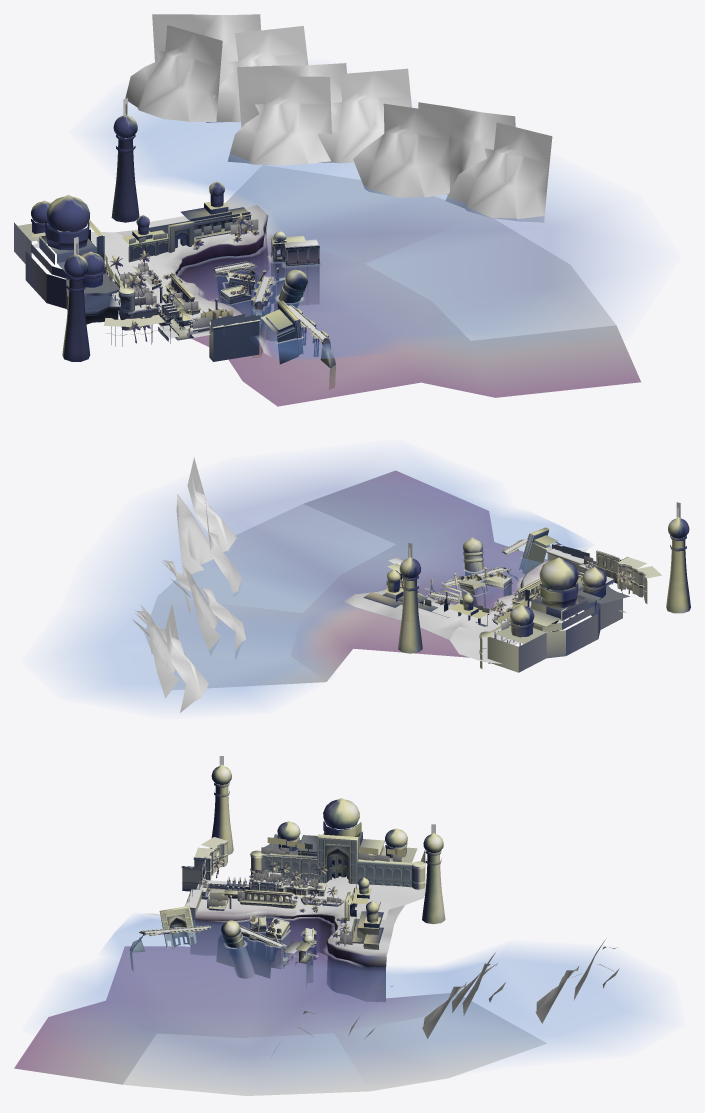
File: 05Islands.gltf
3 renders of one model, top to bottom at view 1: azimuth 30°, elevation 25°; view 2: azimuth 150°, elevation 25°; view 3: azimuth 270°, elevation 25°, orthographic. The views are drawn at different scales.
Visible parts, largest first — view 1: stg013_w12_Mesh_0000, stg010_o12_Mesh_0039, stg010_p19_Mesh_0001, stg010_o13_Mesh_0005, stg010_o12_Mesh_0032, stg010_o19_Mesh_0003, stg010_o19_Mesh_0010, stg010_p13_Mesh_0001, stg010_o19_Mesh_0007, stg010_o19_Mesh_0001, stg010_o19_Mesh_0002, stg010_o13_Mesh_0052 (+13 smaller); view 2: stg013_w12_Mesh_0000, stg010_o12_Mesh_0039, stg010_p19_Mesh_0001, stg010_o13_Mesh_0005, stg010_o12_Mesh_0032, stg010_o19_Mesh_0003, stg010_o19_Mesh_0010, stg010_o19_Mesh_0001, stg010_o19_Mesh_0000, stg010_o19_Mesh_0007, stg010_o13_Mesh_0047, stg010_o19_Mesh_0008 (+6 smaller); view 3: stg013_w12_Mesh_0000, stg010_o12_Mesh_0039, stg010_o13_Mesh_0005, stg010_o19_Mesh_0002, stg010_o19_Mesh_0007, stg010_o19_Mesh_0003, stg010_o19_Mesh_0010, stg010_o13_Mesh_0052, stg010_o19_Mesh_0008, stg010_o19_Mesh_0006, stg010_p19_Mesh_0001, stg010_p13_Mesh_0001 (+10 smaller).
Boxes of the visible parts, box(x1,y1,x2,y2) form: stg013_w12_Mesh_0000: box(91, 101, 635, 359); stg010_o12_Mesh_0039: box(191, 165, 640, 406); stg010_p19_Mesh_0001: box(125, 14, 552, 222); stg010_o13_Mesh_0005: box(17, 194, 328, 364); stg010_o12_Mesh_0032: box(14, 222, 317, 361); stg010_o19_Mesh_0003: box(31, 114, 325, 340); stg010_o19_Mesh_0010: box(33, 232, 238, 337); stg010_p13_Mesh_0001: box(109, 217, 260, 334); stg010_o19_Mesh_0007: box(31, 184, 328, 341); stg010_o19_Mesh_0001: box(62, 147, 139, 361); stg010_o19_Mesh_0002: box(177, 228, 268, 300); stg010_o13_Mesh_0052: box(104, 215, 329, 367); stg013_w12_Mesh_0000: box(51, 456, 589, 709); stg010_o12_Mesh_0039: box(144, 470, 547, 690); stg010_p19_Mesh_0001: box(132, 457, 245, 712); stg010_o13_Mesh_0005: box(363, 527, 661, 663); stg010_o12_Mesh_0032: box(487, 554, 622, 672); stg010_o19_Mesh_0003: box(399, 517, 689, 625); stg010_o19_Mesh_0010: box(450, 565, 581, 663); stg010_o19_Mesh_0001: box(398, 546, 690, 653); stg010_o19_Mesh_0000: box(344, 590, 464, 639); stg010_o19_Mesh_0007: box(400, 540, 687, 654); stg010_o13_Mesh_0047: box(363, 548, 591, 621); stg010_o19_Mesh_0008: box(402, 540, 686, 632); stg013_w12_Mesh_0000: box(48, 914, 664, 1080); stg010_o12_Mesh_0039: box(14, 946, 546, 1095); stg010_o13_Mesh_0005: box(142, 831, 425, 988); stg010_o19_Mesh_0002: box(190, 916, 385, 1002); stg010_o19_Mesh_0007: box(141, 822, 442, 968); stg010_o19_Mesh_0003: box(141, 764, 443, 944); stg010_o19_Mesh_0010: box(196, 876, 425, 913); stg010_o13_Mesh_0052: box(132, 845, 411, 978); stg010_o19_Mesh_0008: box(162, 808, 441, 969); stg010_o19_Mesh_0006: box(162, 782, 441, 944); stg010_p19_Mesh_0001: box(273, 939, 619, 1053); stg010_p13_Mesh_0001: box(187, 847, 401, 946).
Size of the model in its own units: 784 by 224 by 895.
